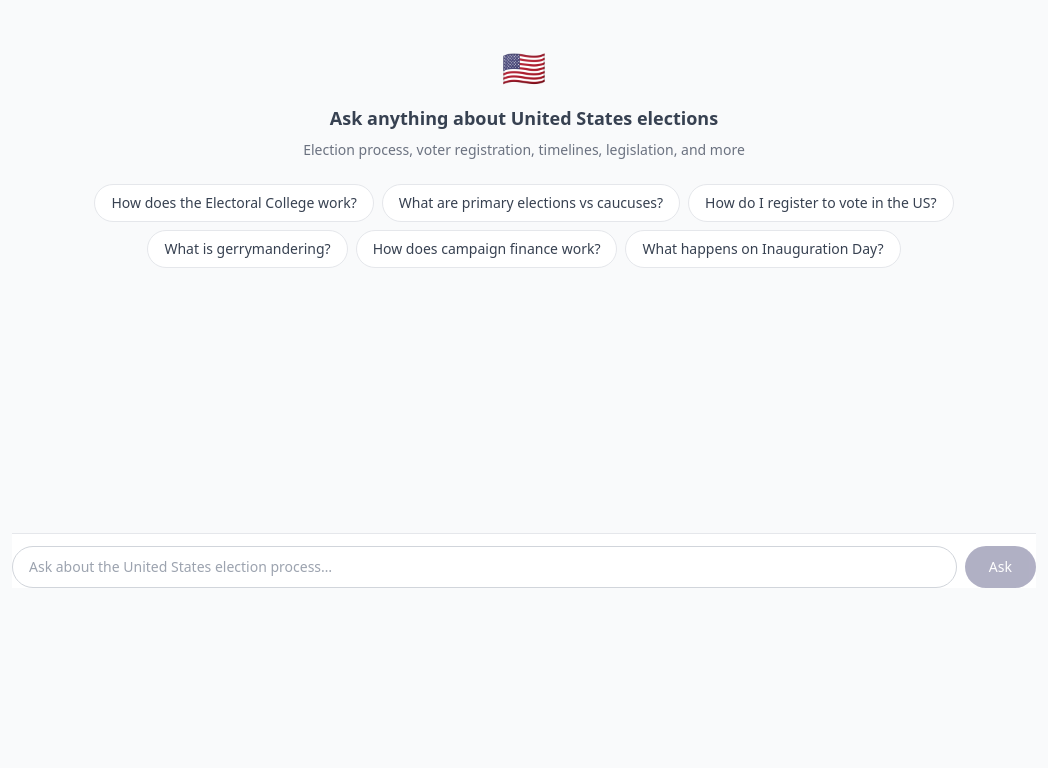
Chat › hides translate button for English country
The image size is (1048, 768).
In the field with placeholder "Ask about the United States election process…": (484, 567) 12,546 -> 957,588, type "How does voting work?"
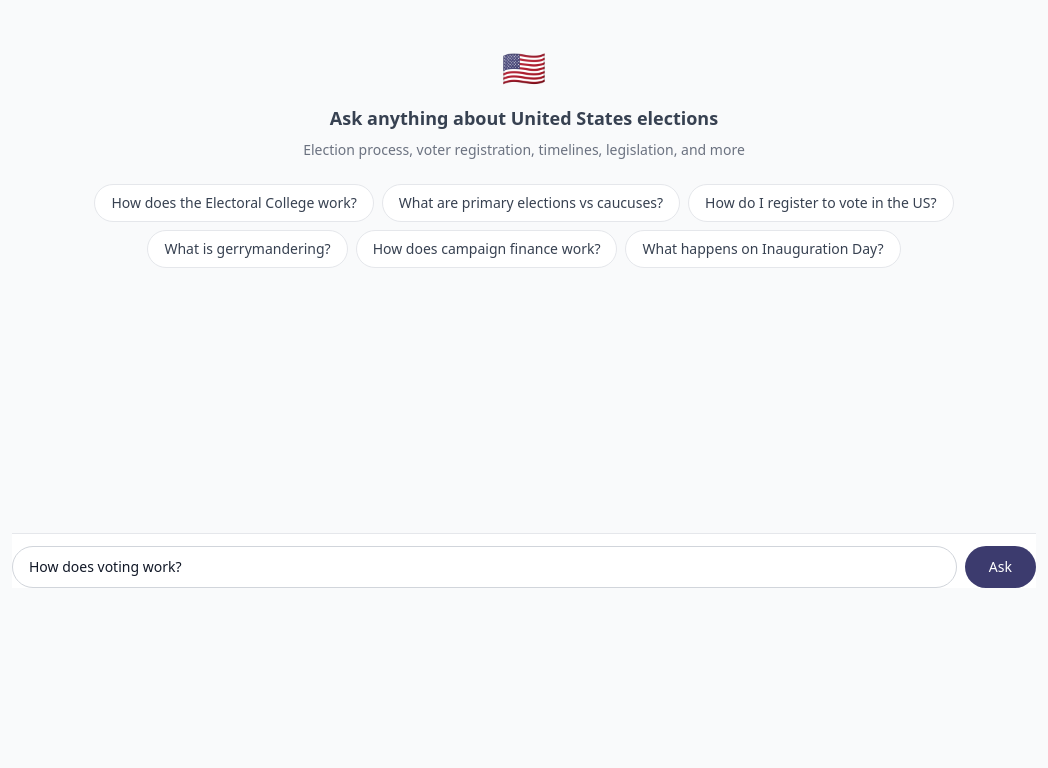
Click the button with aria-label "Submit question": (1000, 567) 965,546 -> 1036,588
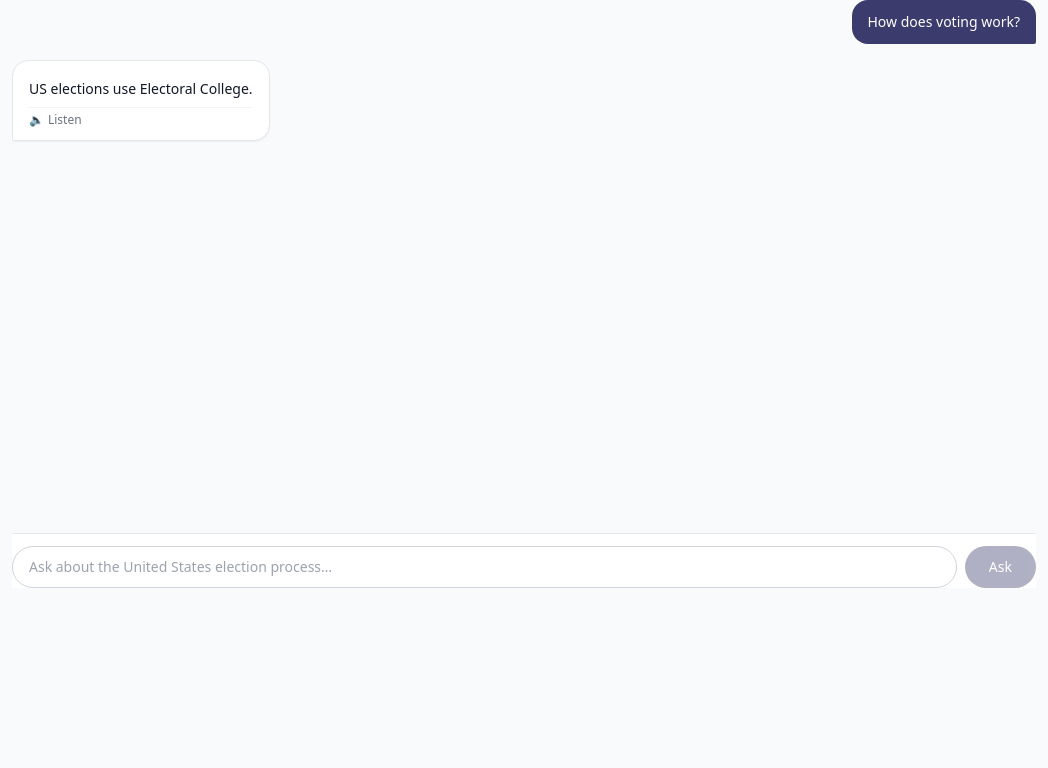
Expected: the text "US elections use Electoral College." is shown, 29,79 -> 253,99
